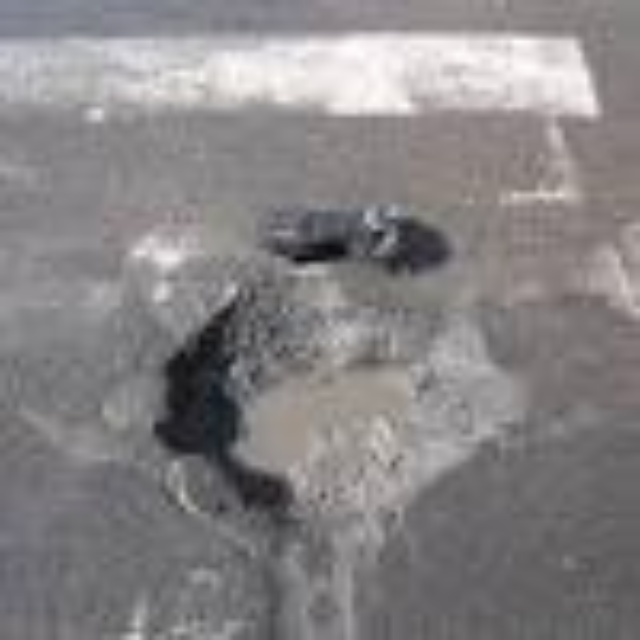pothole: (154, 256, 525, 640)
